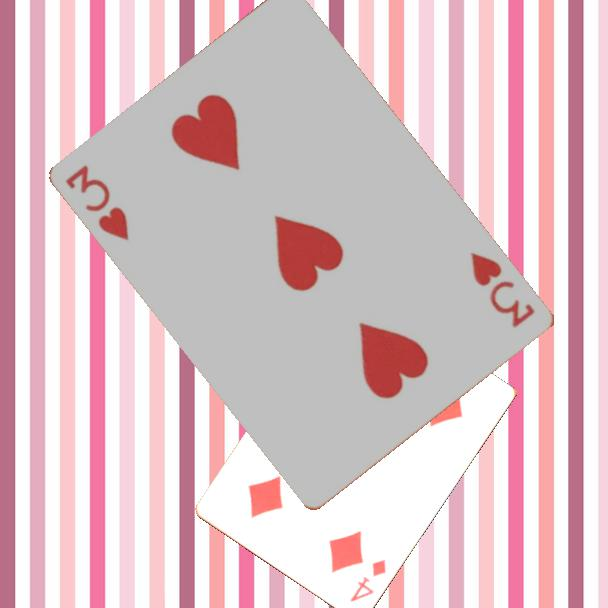d04: (347, 556, 389, 605)
h03: (467, 249, 539, 331), (62, 161, 133, 244)
